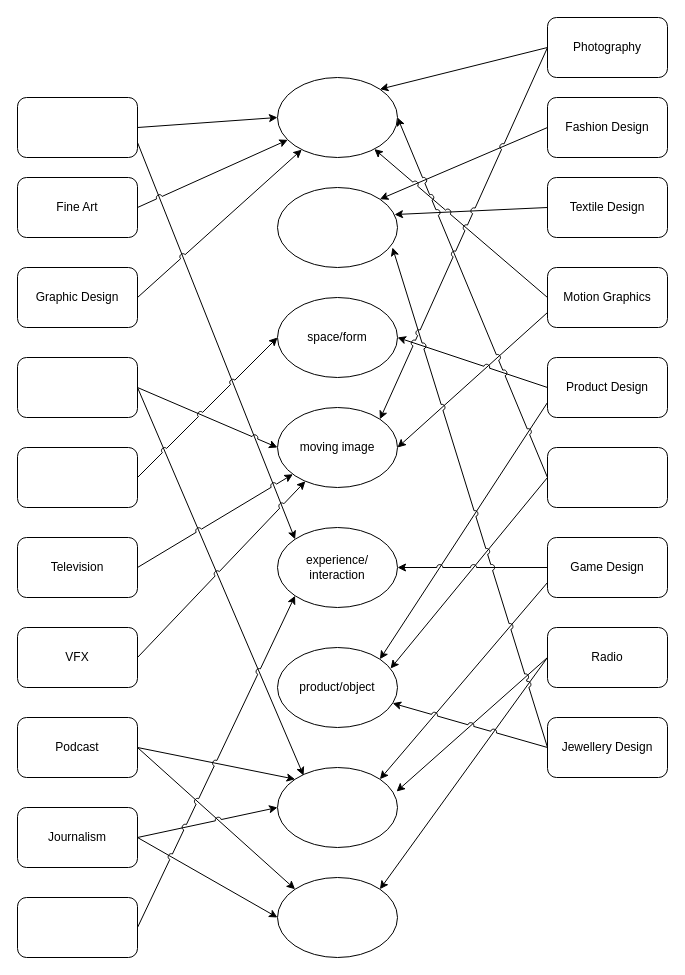
The diagram is 685 pixels wide and 975 high, and some of its shapes have lost their labels. The centre of each missing label's shape, as x and y in pixels:
"App Design" goes at pixel 77 927.
"audio/sound" goes at pixel 337 917.
"Ceramic Design" goes at pixel 607 477.
"Film" goes at pixel 77 387.
"image/mark" goes at pixel 337 117.
"Interior Design" goes at pixel 77 477.
"text/narrative" goes at pixel 337 807.
"wearable" goes at pixel 337 227.
"Web Design" goes at pixel 77 127.
